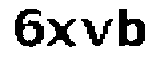6: (12, 5, 45, 50)
b: (117, 5, 147, 51)
v: (80, 14, 113, 50)
x: (45, 16, 78, 52)
